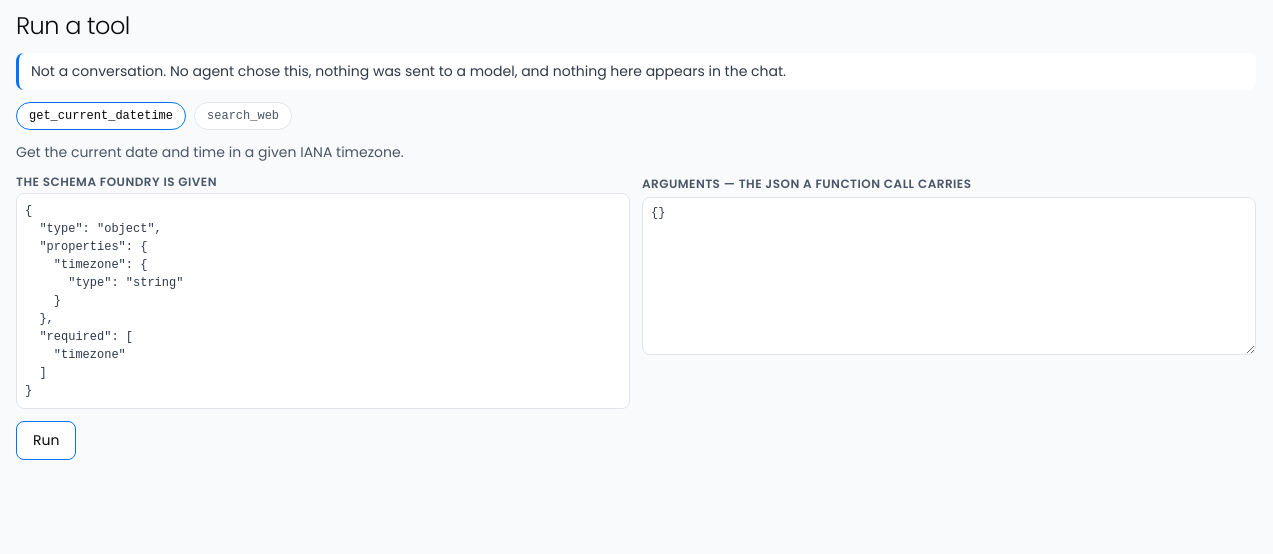
Test case: a failure is the failure it was (AC5) › renders a refusal as a refusal
Click the button "Run": (46, 441) [16, 421, 76, 460]
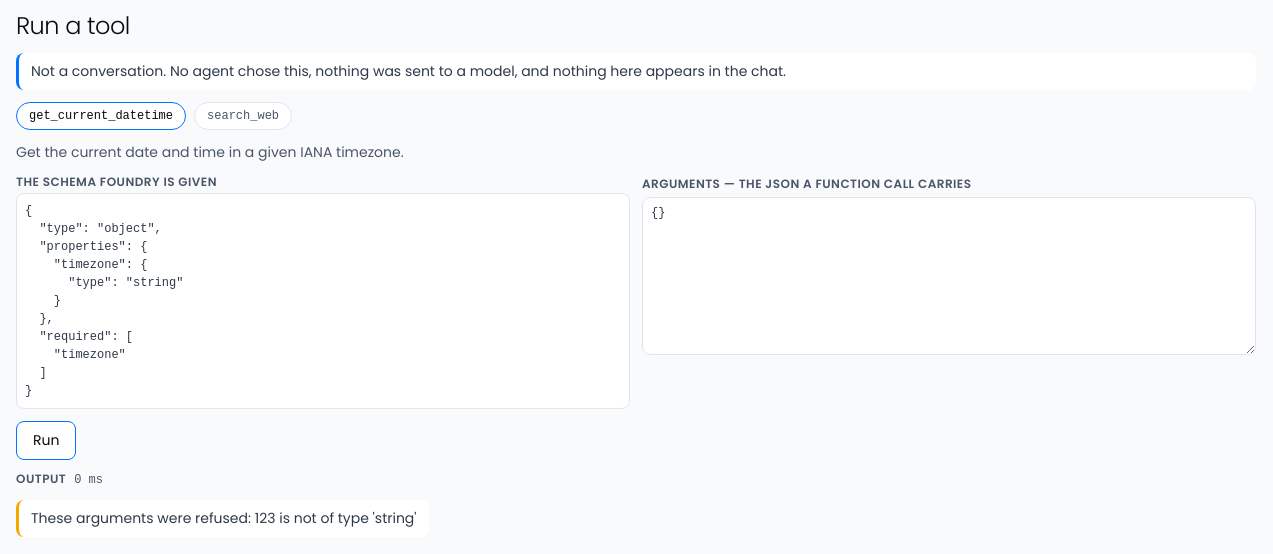
Now the message shows "not of type 'string'", box [31, 508, 417, 528]
